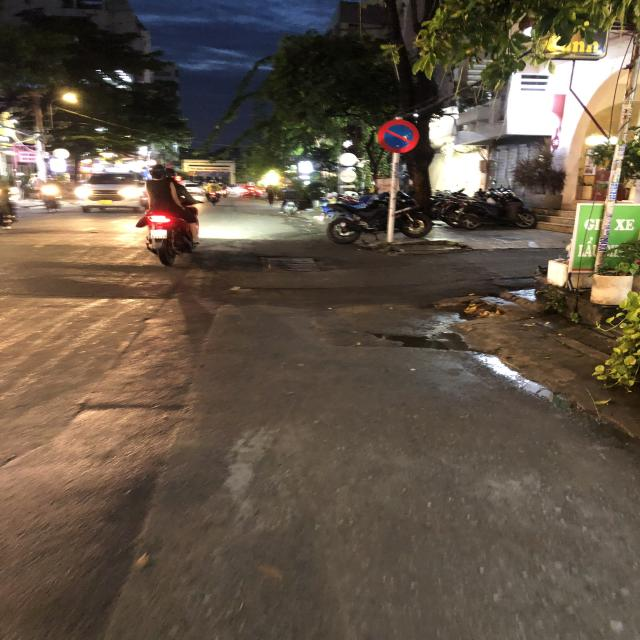Bien bao cam do xe: (377, 117, 422, 155)
